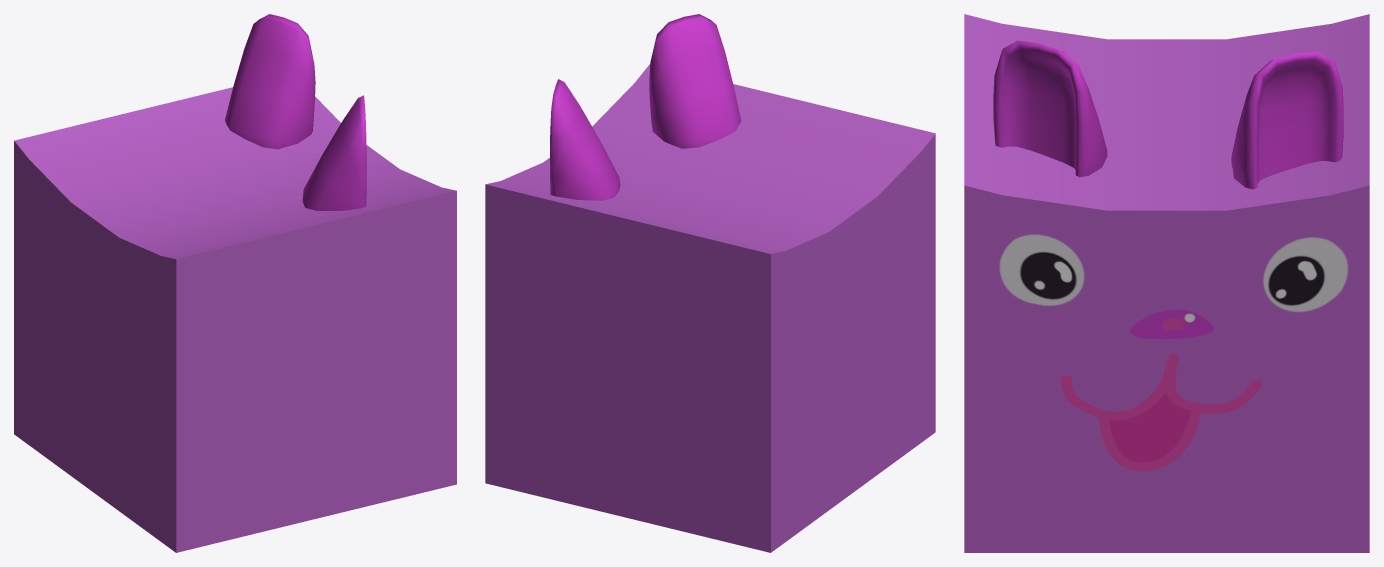
Rendered from catpurple2.fbx.
The picture shows the model from 3 angles, left to right: view 1: azimuth 30°, elevation 25°; view 2: azimuth 150°, elevation 25°; view 3: azimuth 270°, elevation 25°; orthographic projection. The views are drawn at different scales.
Visible parts, largest first — view 1: Cube; view 2: Cube; view 3: Cube.
Boxes of the visible parts, <box> form: Cube: <box>14,14,456,552</box>; Cube: <box>485,14,935,552</box>; Cube: <box>964,14,1369,552</box>.
Size of the model in its own units: 200 by 258 by 200.
